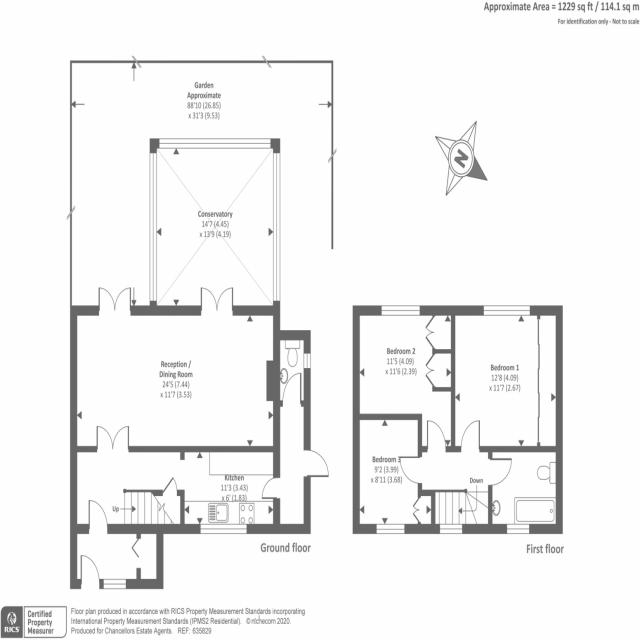DOOR: (398, 455, 423, 485), (88, 499, 108, 534), (488, 457, 512, 486), (80, 555, 100, 589), (426, 419, 446, 452), (460, 420, 480, 452), (261, 477, 281, 500)
DOUBLE DOOR: (97, 283, 132, 317), (95, 421, 132, 453), (199, 285, 235, 316)
ROOM: (451, 305, 563, 452), (352, 305, 455, 452), (352, 413, 435, 534), (180, 446, 280, 534)
WINDOW: (483, 305, 530, 316), (200, 523, 247, 534), (381, 305, 421, 316), (376, 523, 405, 534), (506, 523, 530, 534), (439, 524, 463, 534), (103, 579, 126, 589)
